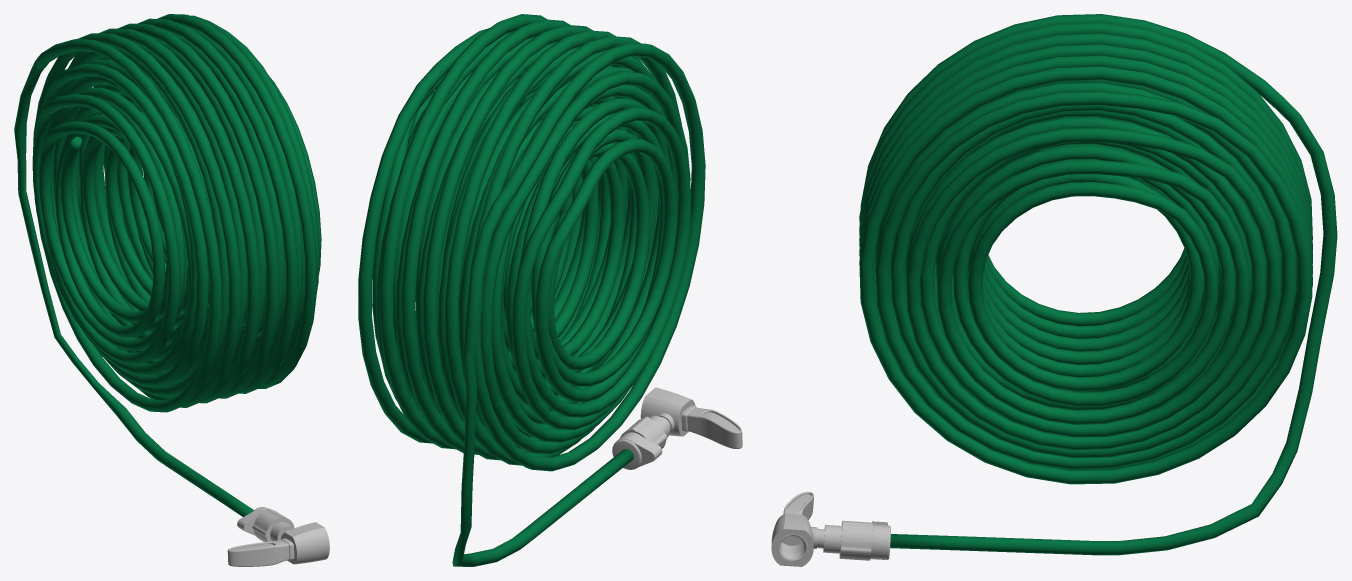
File: toolsthread_mesh.fbx
3 views of the same model, side by side, from view 1: azimuth 30°, elevation 25°; view 2: azimuth 150°, elevation 25°; view 3: azimuth 270°, elevation 25° (orthographic). The views are drawn at different scales.
Parts seen in each view (by area): view 1: thread_mesh; view 2: thread_mesh; view 3: thread_mesh.
Boxes of the visible parts, x1,y1,x2,y2 form: thread_mesh: [14, 14, 329, 566]; thread_mesh: [358, 14, 742, 566]; thread_mesh: [771, 14, 1337, 566].
Size of the model in its own units: 107 by 271 by 270.
